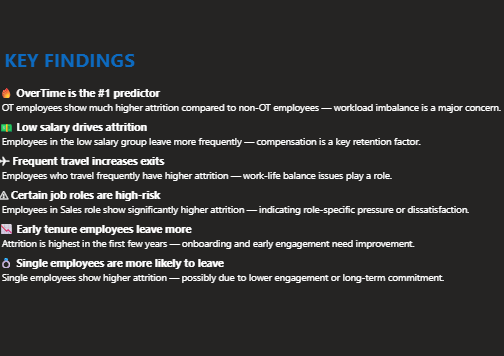

The dashboard page shown, as its layout file describes it:
{"tool":"powerbi","page":{"name":"Key Insights","canvas":[1280,1080],"ordinal":1},"visuals":[{"type":"textbox","box":[0,0,1280,1080],"z":0}]}

Visuals, with their boxes on the page's 1280x1080 design canvas (x1, y1, x2, y2). These are canvas units, not pixel positions in the 504x356 screenshot, which may show the page scaled, cropped or inside an application window:
textbox: l=0, t=0, r=1280, b=1080
